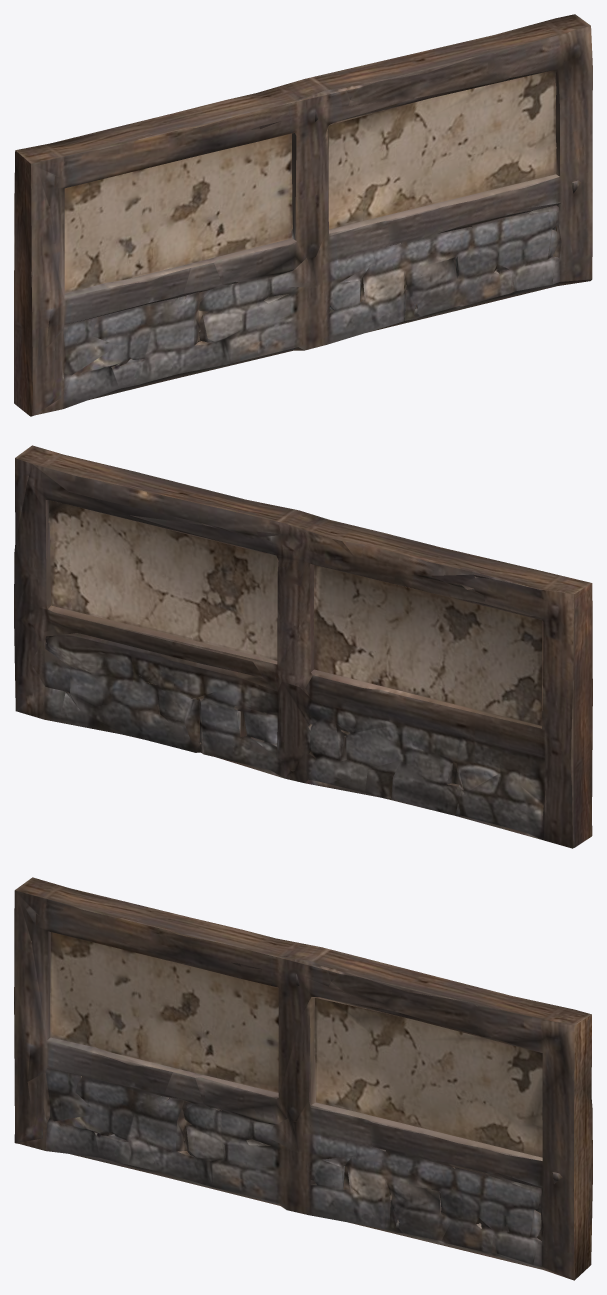
3 renders of one model, top to bottom at view 1: azimuth 30°, elevation 25°; view 2: azimuth 150°, elevation 25°; view 3: azimuth 330°, elevation 25°, orthographic.
Parts seen in each view (by area): view 1: geometry_0; view 2: geometry_0; view 3: geometry_0.
Boxes of the visible parts, box(x1,y1,x2,y2) form: geometry_0: box(14, 14, 592, 416); geometry_0: box(14, 445, 592, 848); geometry_0: box(14, 877, 592, 1280).
Size of the model in its own units: 2.4 by 1.04 by 0.1697.
Materials: 1 (1 with a texture image).
